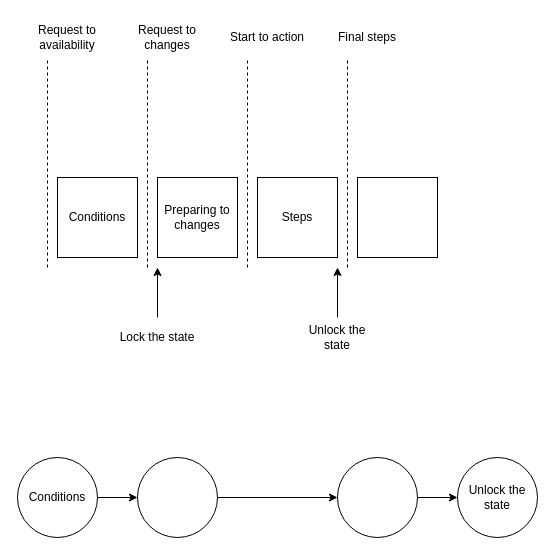
Image size: 555x555. Some labels were removed from this diagram. The shapes that lost their labels are listed below. From the top down, each one's centre as x and y in pixels, then its label:
pixel 397 217: Callbacks
pixel 177 497: Lock state & plan the action
pixel 377 497: Do action
